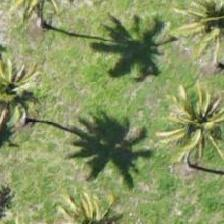coconut_tree: (139, 113, 223, 203), (0, 0, 86, 68), (0, 63, 59, 153), (168, 0, 223, 63)
